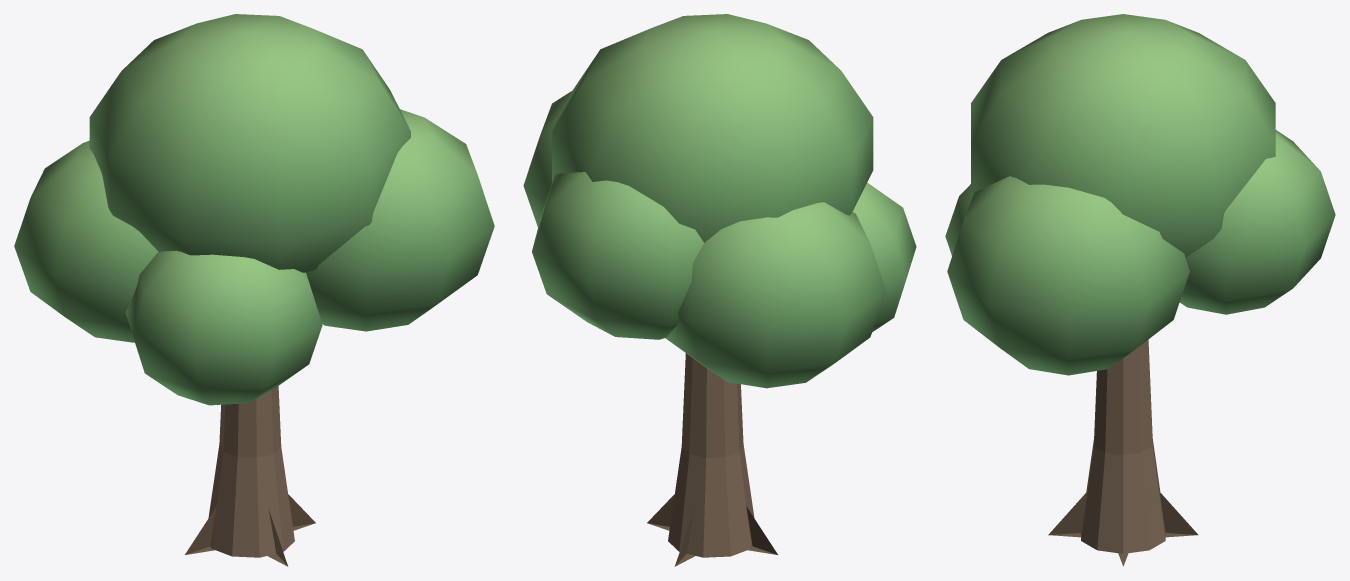
The model's file is tree_oak.glb.
3 views of the same model, side by side, from view 1: azimuth 30°, elevation 25°; view 2: azimuth 150°, elevation 25°; view 3: azimuth 270°, elevation 25° (orthographic).
Size of the model in its own units: 6.49 by 8.1 by 5.7.
